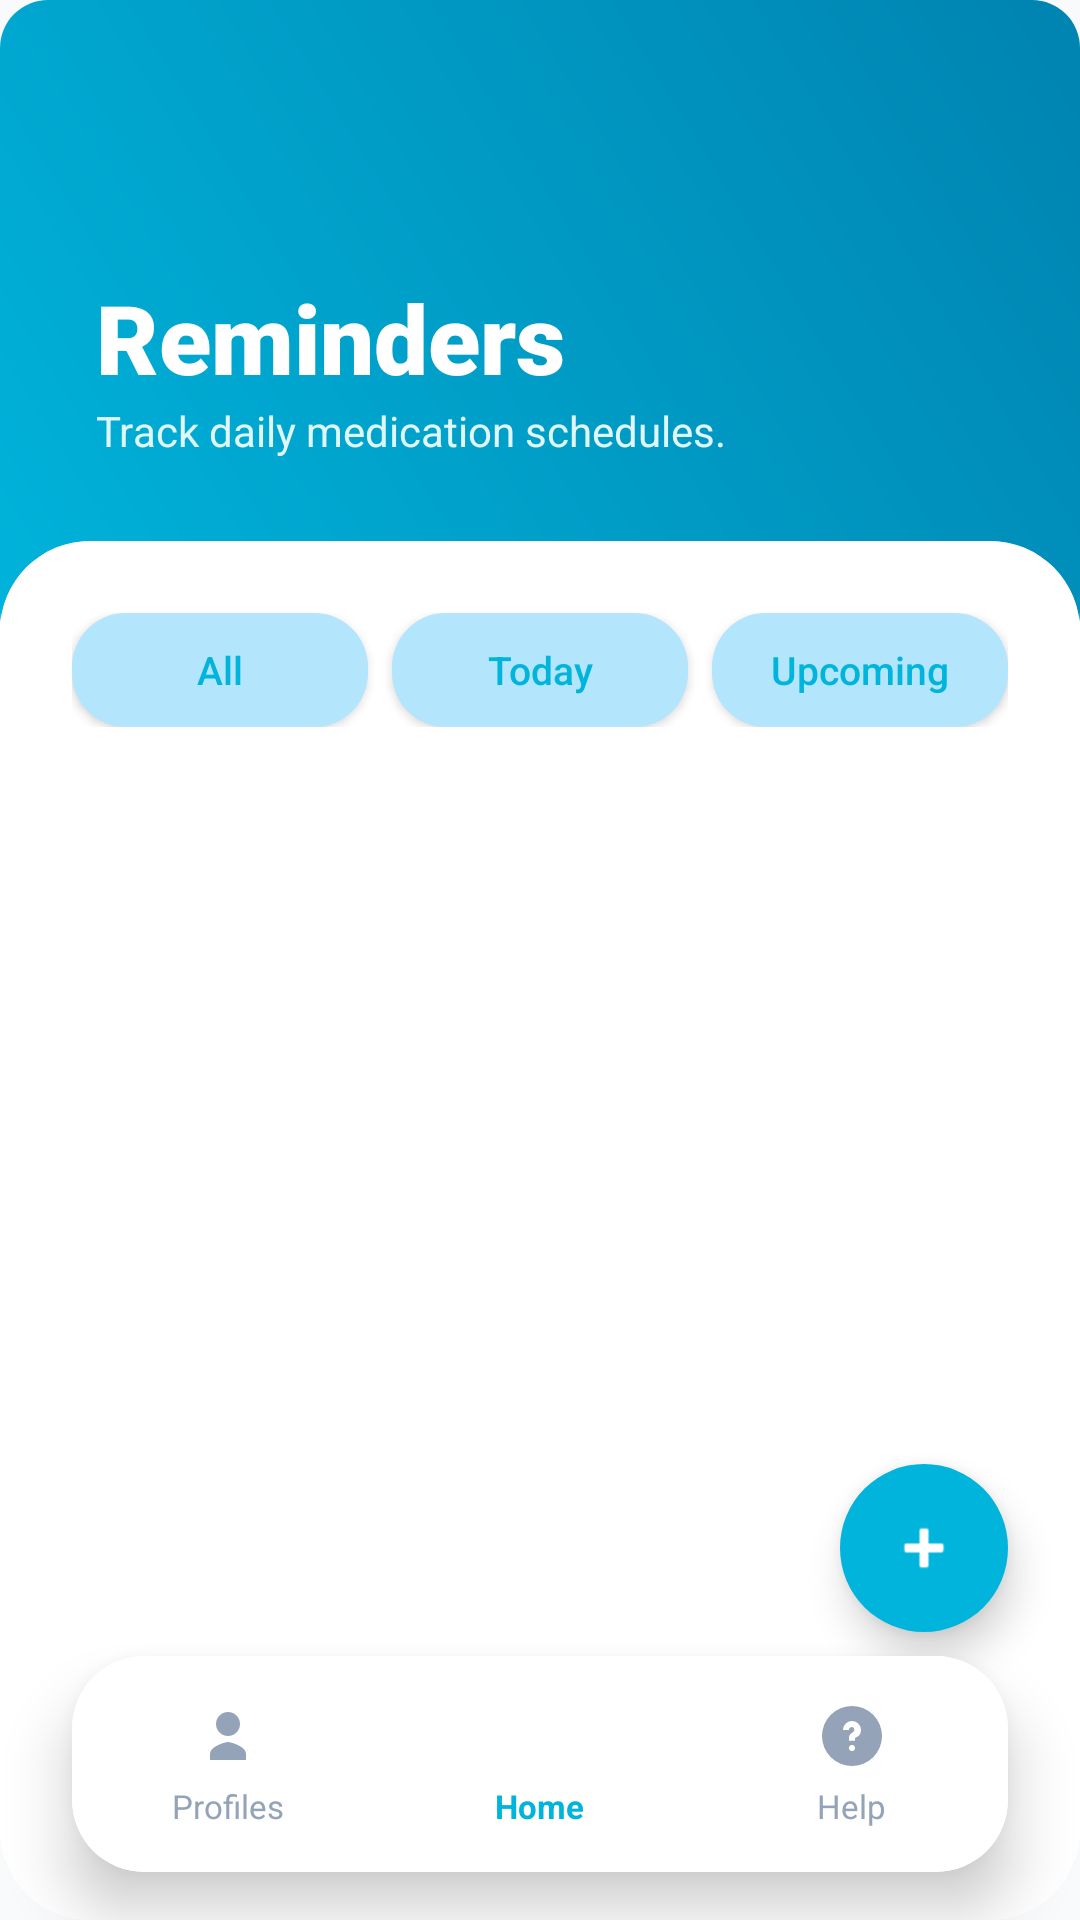

Where icons sit on this 1080px×1920px app screen, as (x1, y1, x2, y2):
add: (840, 1464, 1008, 1632)
